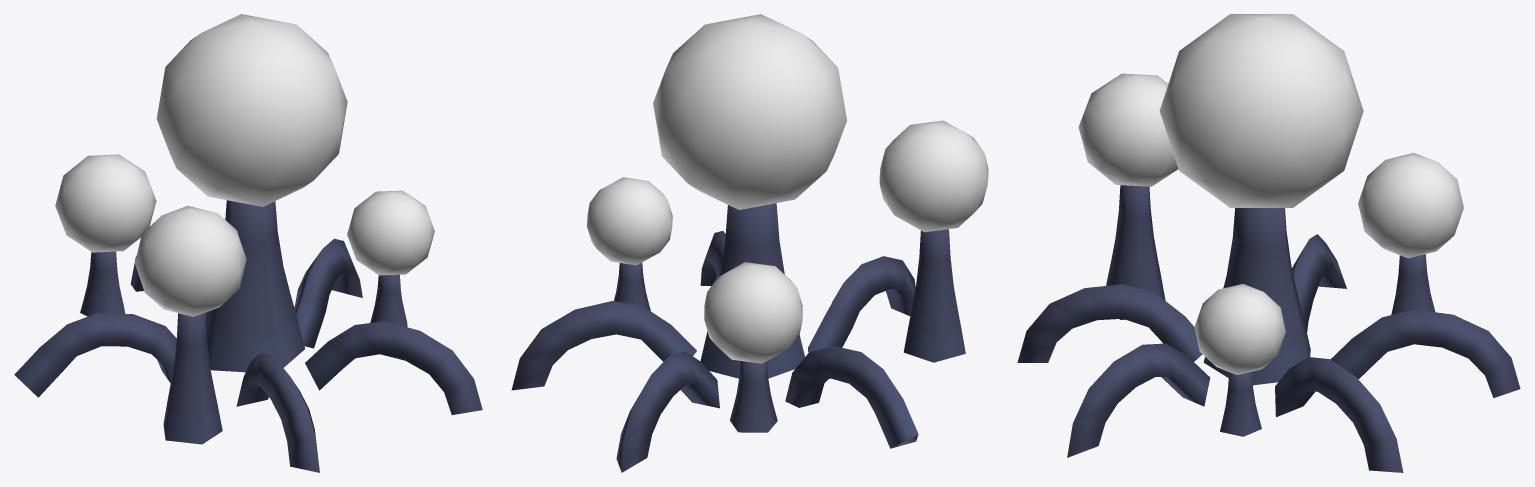
Rendered from Sunken Tomb Bubble Flower Cluster.fbx.
3 renders of one model, left to right at view 1: azimuth 30°, elevation 25°; view 2: azimuth 150°, elevation 25°; view 3: azimuth 270°, elevation 25°, orthographic. The views are drawn at different scales.
Parts seen in each view (by area): view 1: Bubble Flower Cluster_LOD0; view 2: Bubble Flower Cluster_LOD0; view 3: Bubble Flower Cluster_LOD0.
Part boxes in pixels (left/top/right/bottom): Bubble Flower Cluster_LOD0: left=14, top=14, right=482, bottom=472; Bubble Flower Cluster_LOD0: left=511, top=14, right=988, bottom=472; Bubble Flower Cluster_LOD0: left=1017, top=14, right=1520, bottom=472.
Size of what is drawn, in the model's own units: 229 by 210 by 259.
